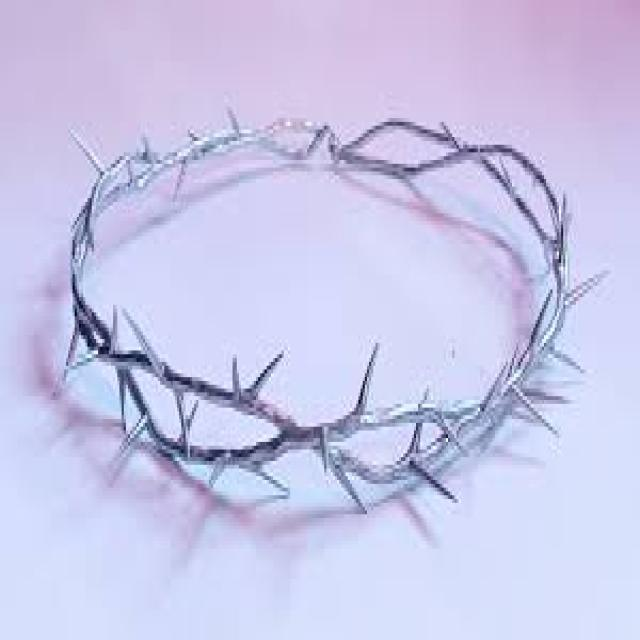crown: (31, 55, 604, 579)
